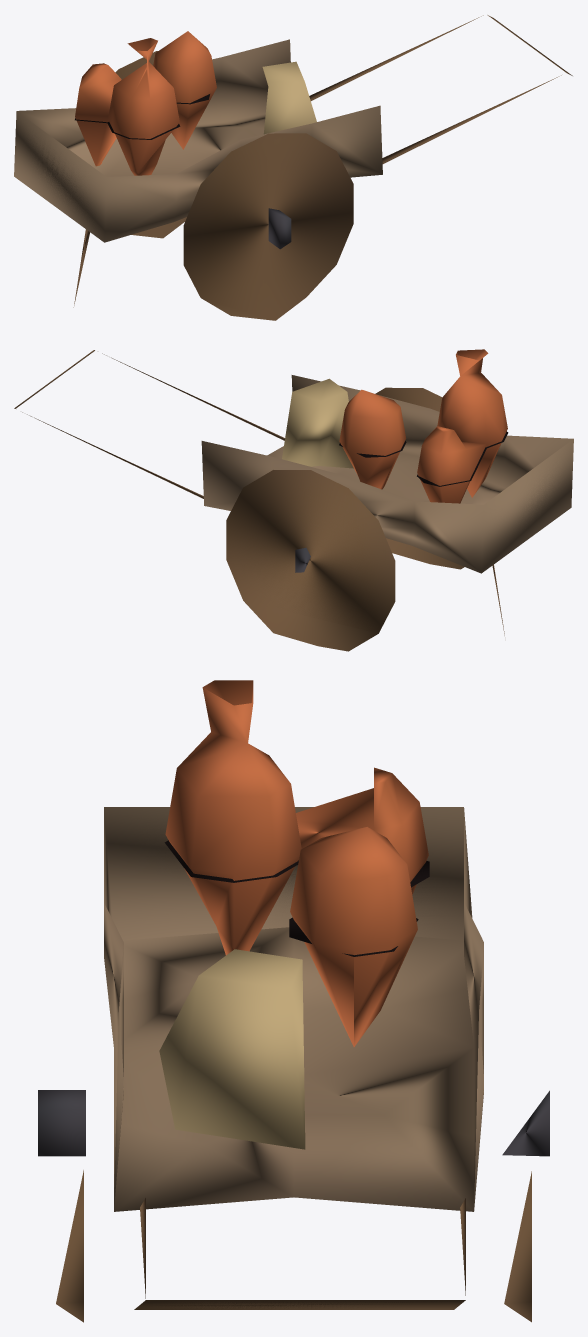
File: decor_cart_t1.glb
3 renders of one model, top to bottom at view 1: azimuth 30°, elevation 25°; view 2: azimuth 150°, elevation 25°; view 3: azimuth 270°, elevation 25°, orthographic. The views are drawn at different scales.
Visible parts, largest first — view 1: wood_dark, wood, terracotta, rope, iron; view 2: wood_dark, wood, terracotta, rope, black_glaze; view 3: wood, terracotta, rope, wood_dark, iron, black_glaze.
Part boxes in pixels (x1,y1,x2,y2): wood_dark: (73,15,572,320); wood: (14,39,382,242); terracotta: (75,31,216,175); rope: (262,61,316,134); iron: (268,208,291,249); wood_dark: (14,350,504,651); wood: (201,375,573,573); terracotta: (339,349,507,503); rope: (282,378,353,468); black_glaze: (339,431,508,486); wood: (104,807,483,1211); terracotta: (165,680,428,1046); rope: (159,949,305,1149); wood_dark: (56,1170,531,1322); iron: (38,1090,549,1156); black_glaze: (164,840,429,956).
Bounding box in the file's own units: 2.73 × 1.46 × 1.28.
